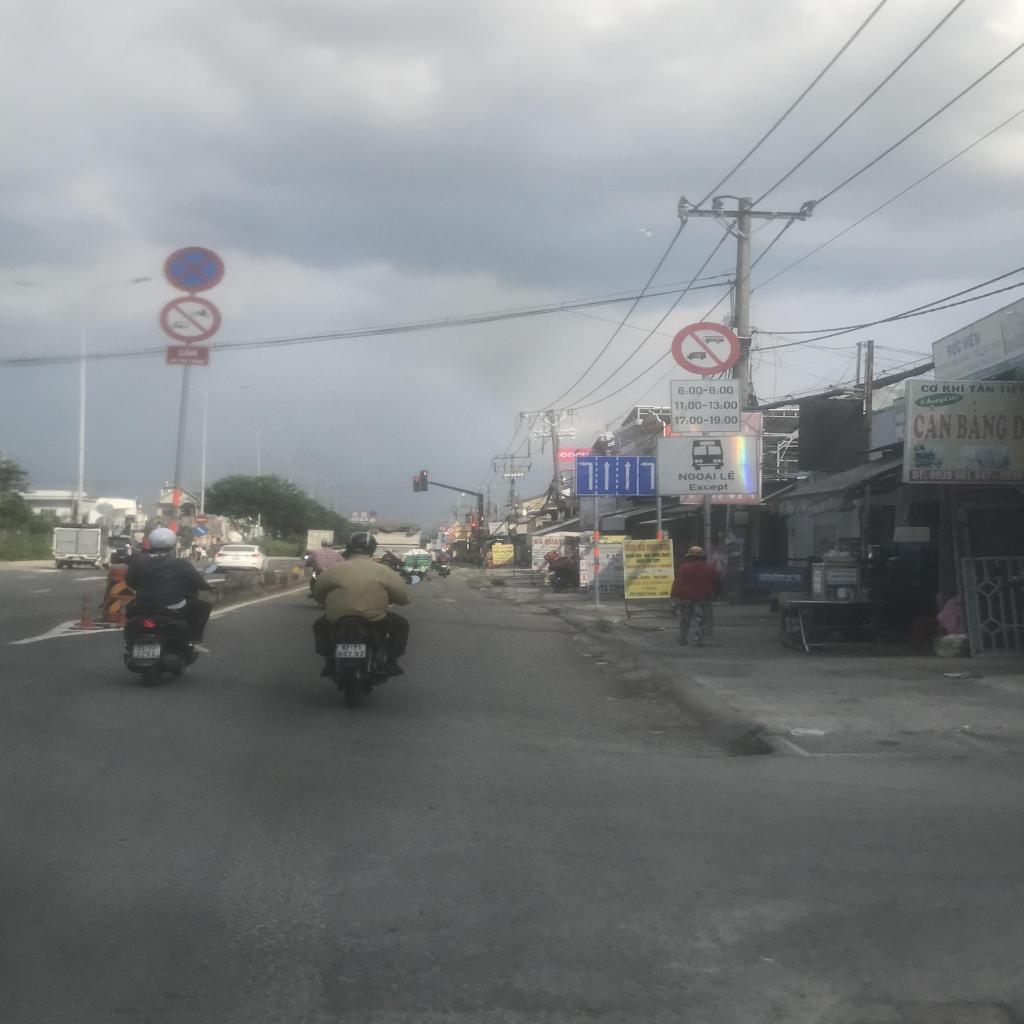cam_dung_xe_va_do_xe: (164, 247, 226, 291)
cam_o_to_tai_va_xe_khach: (672, 322, 741, 375)
cam_xe_2_banh_va_xe_3_banh_co_dong_co: (159, 296, 222, 343)
cam_xe_di_nguoc_chieu: (195, 515, 208, 525)
huong_di_tren_moi_lan_duong_theo_vach_ke_duong: (576, 456, 656, 495)
huong_phai_di_vuot_chuong_ngai_vat_phai: (194, 525, 208, 536)
khac: (656, 436, 758, 495), (670, 380, 741, 432)
